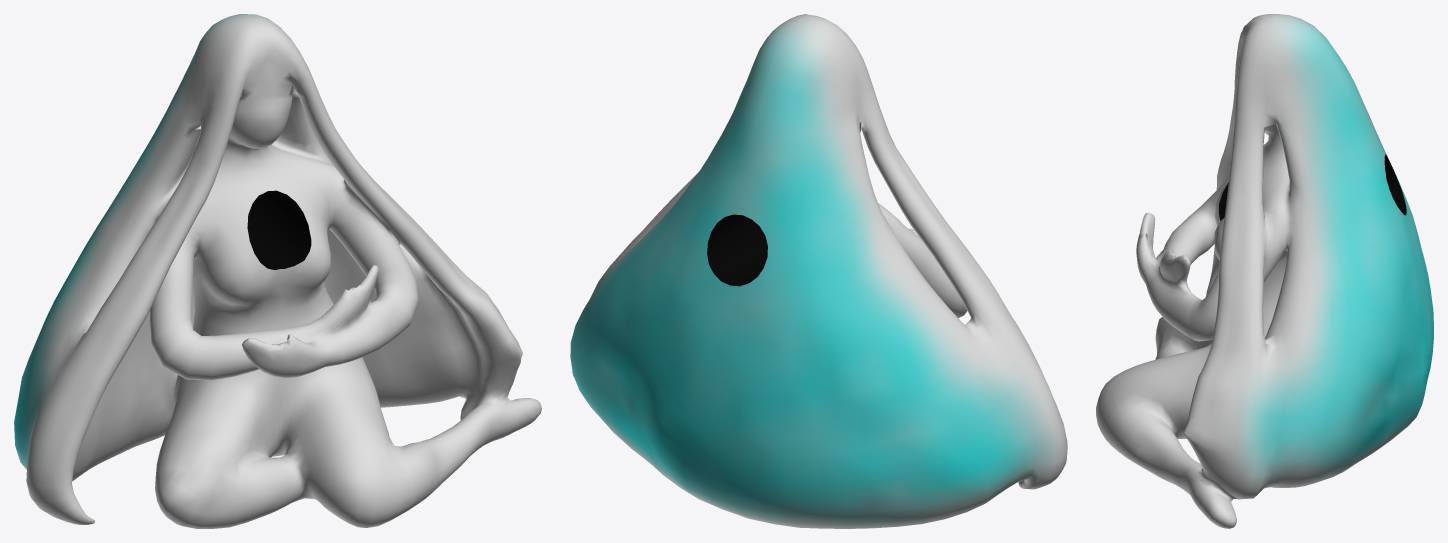
Rendered from Sun1_zbrush_gat_LP.fbx.
3 views of the same model, side by side, from view 1: azimuth 30°, elevation 25°; view 2: azimuth 150°, elevation 25°; view 3: azimuth 270°, elevation 25° (orthographic). The views are drawn at different scales.
Parts seen in each view (by area): view 1: Sun1_zbrush_LP1; view 2: Sun1_zbrush_LP1; view 3: Sun1_zbrush_LP1.
Part boxes in pixels (x1,y1,x2,y2): Sun1_zbrush_LP1: [14, 14, 541, 528]; Sun1_zbrush_LP1: [570, 14, 1067, 528]; Sun1_zbrush_LP1: [1096, 14, 1433, 528].
Bounding box in the file's own units: 29.03 × 25.07 × 18.8.
